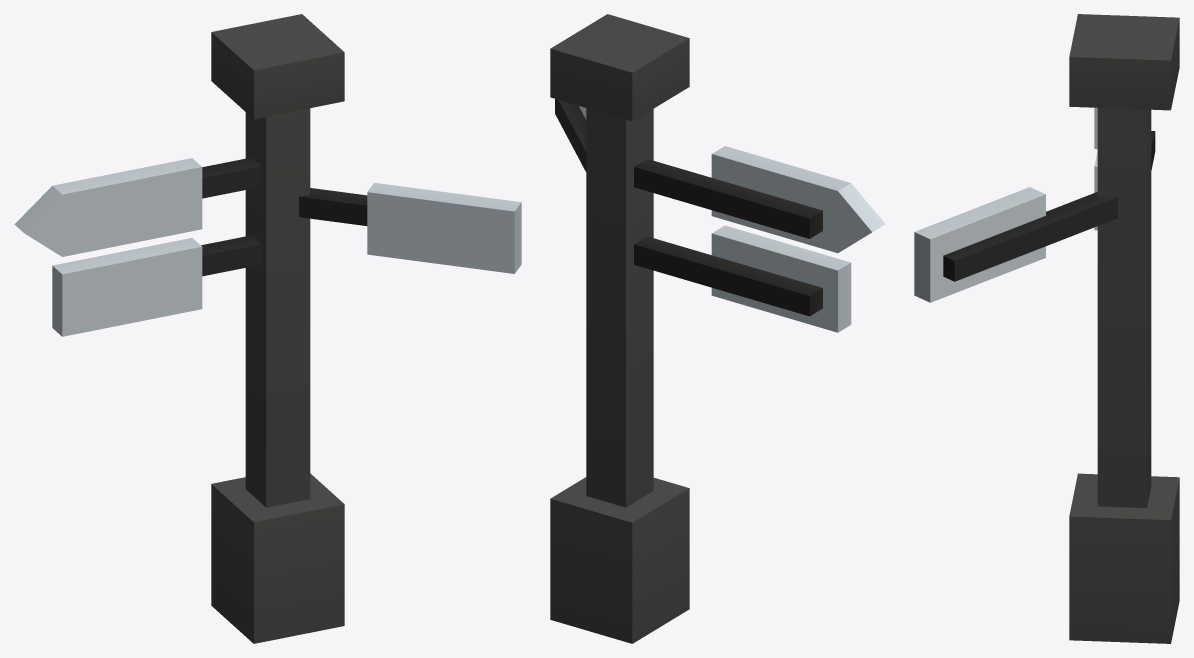
Rendered from Pointer.fbx.
The picture shows the model from 3 angles, left to right: view 1: azimuth 30°, elevation 25°; view 2: azimuth 150°, elevation 25°; view 3: azimuth 270°, elevation 25°; orthographic projection. The views are drawn at different scales.
Parts seen in each view (by area): view 1: Pointer; view 2: Pointer; view 3: Pointer.
Boxes of the visible parts, x1,y1,x2,y2 form: Pointer: (14,14,521,643); Pointer: (550,14,885,643); Pointer: (914,14,1179,643).
Bounding box in the file's own units: 283 × 379 × 156.
